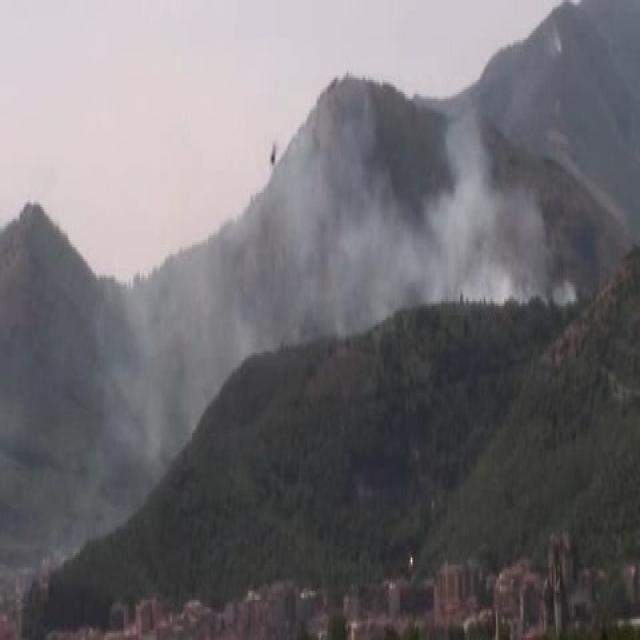smoke: (322, 93, 535, 310)
